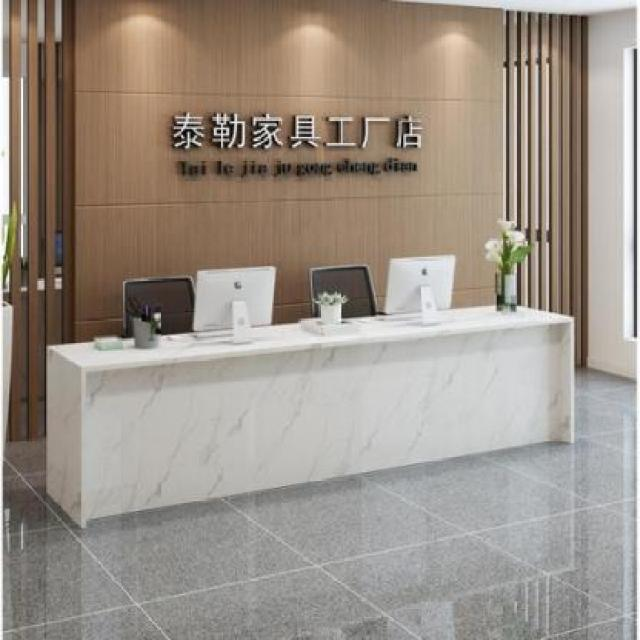frontdesk: (37, 202, 578, 536)
